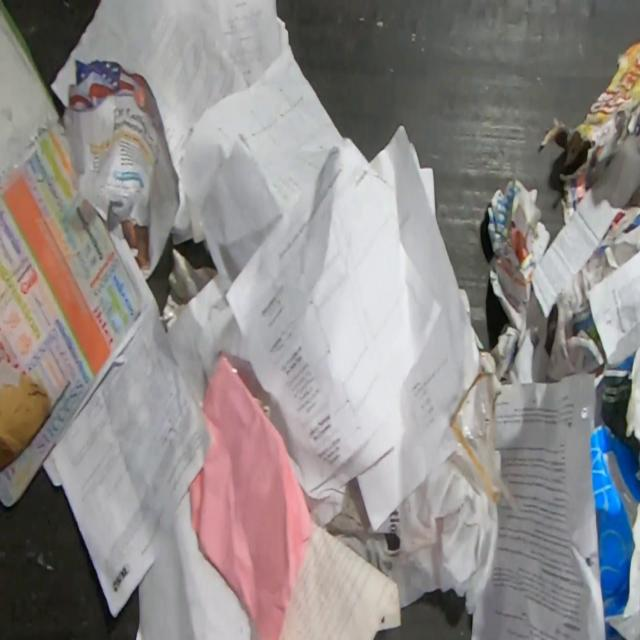cardboard: (540, 39, 640, 224), (588, 425, 640, 640), (0, 370, 51, 471), (162, 247, 218, 332)
soft_plastic: (440, 365, 504, 502)
